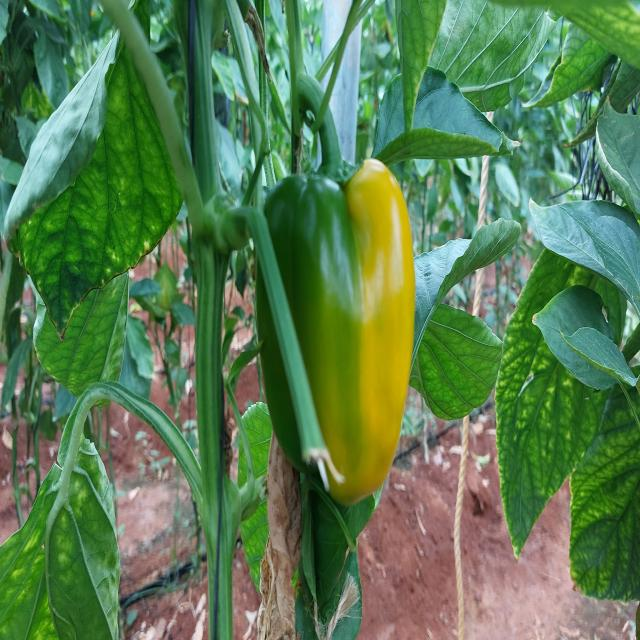GreenishYellow--Can-be-Harvested: (248, 162, 440, 511)
